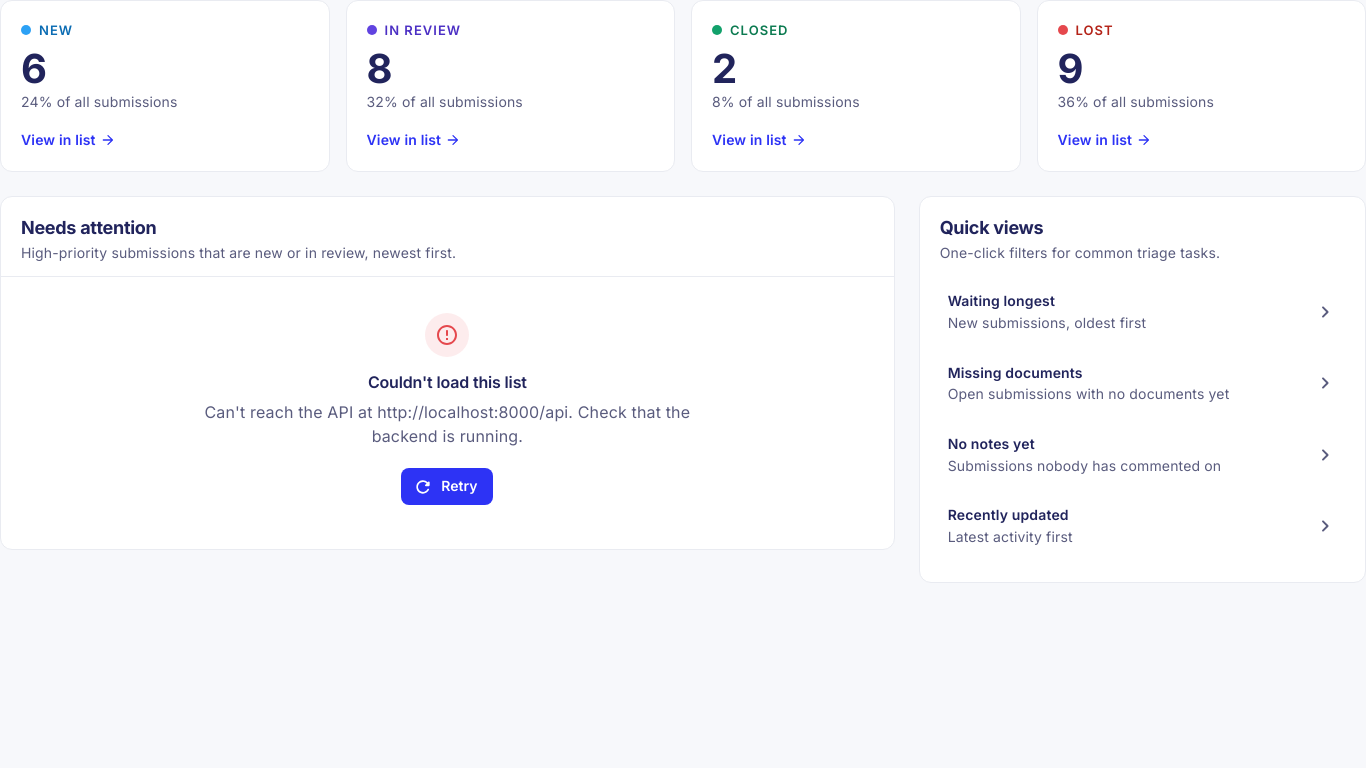
OverviewDashboard › shows a retryable error in the list when it fails to load
Expected: the message shows "Couldn't load this list", top-left (368, 372), bottom-right (527, 392)
Click the button "Retry" at point(447, 487), box top-left (401, 468), bottom-right (493, 505)
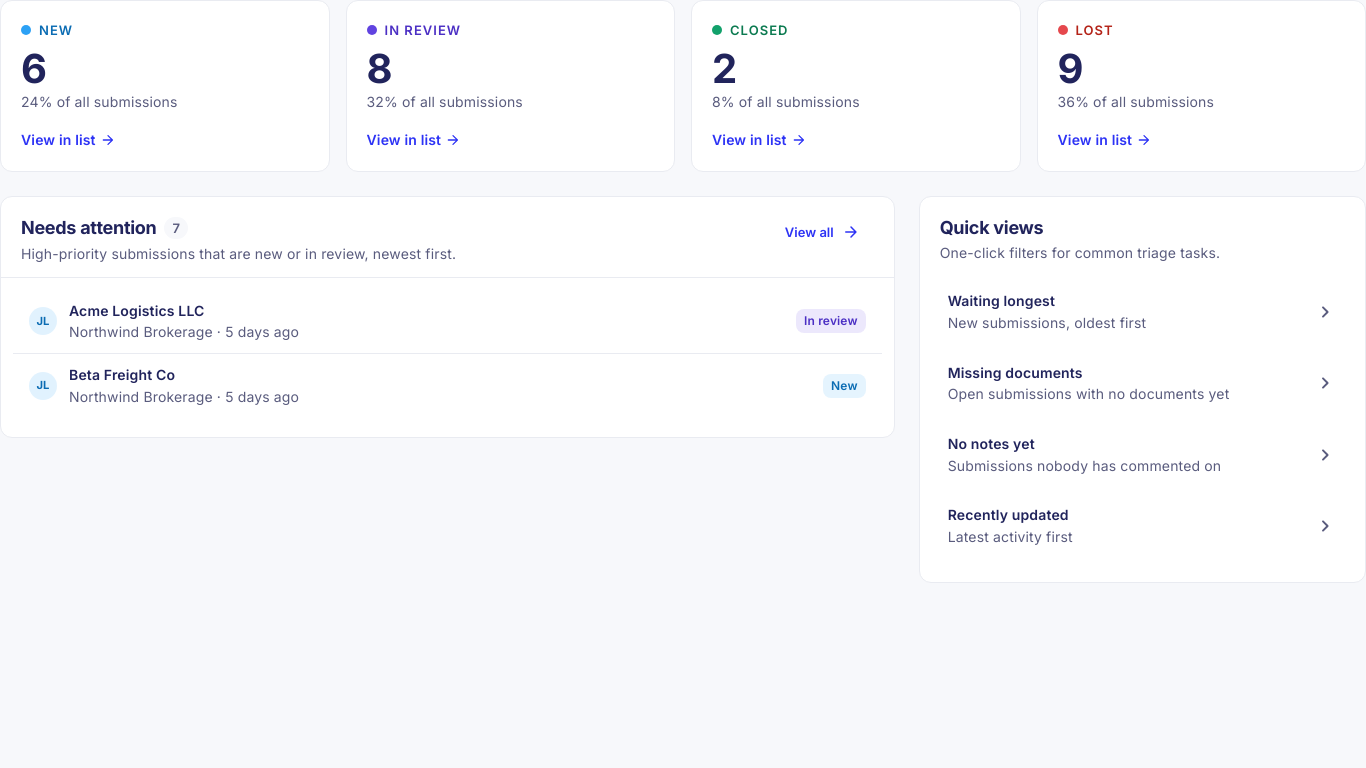
Expected: the link "Beta Freight Co" is shown, top-left (13, 354), bottom-right (882, 417)
